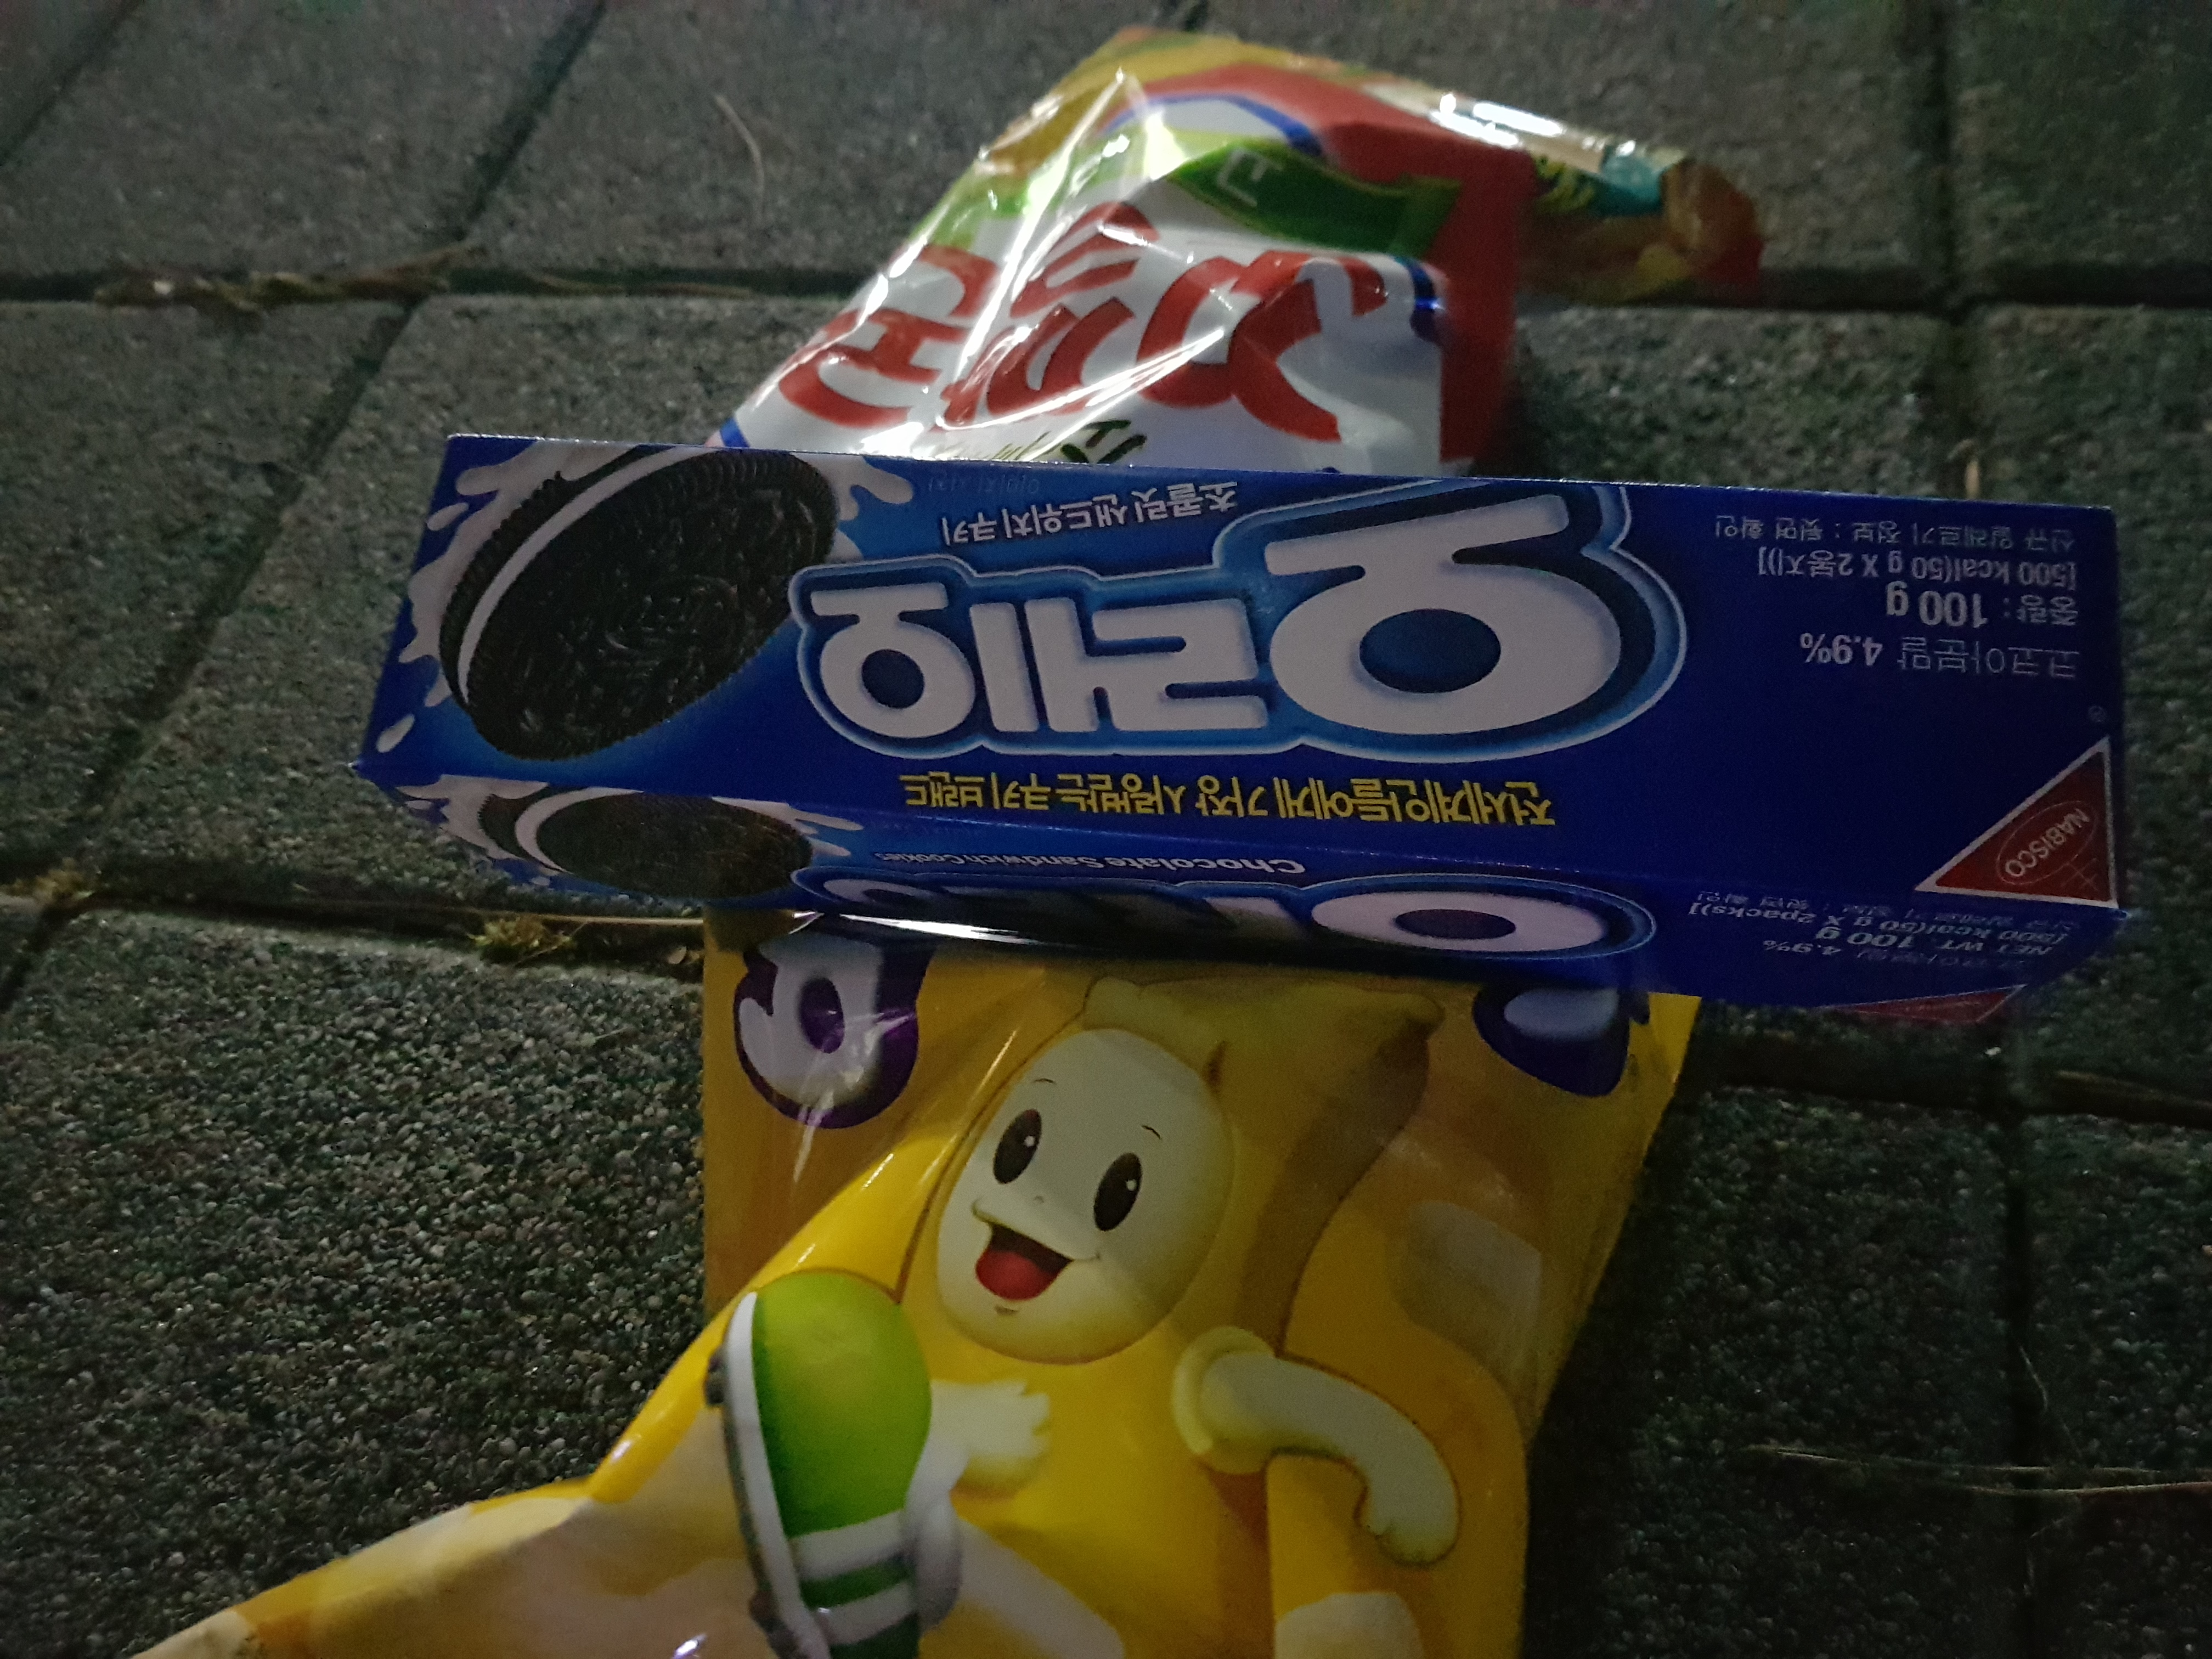banana: (96, 993, 1676, 1659)
ggoggalcon: (685, 10, 1785, 488)
oreo: (347, 422, 2139, 1037)
